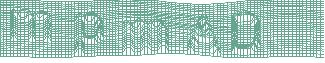A: (184, 14, 221, 58)
D: (229, 10, 263, 55)
m: (122, 17, 170, 56), (8, 7, 54, 44)
p: (74, 10, 104, 58)
